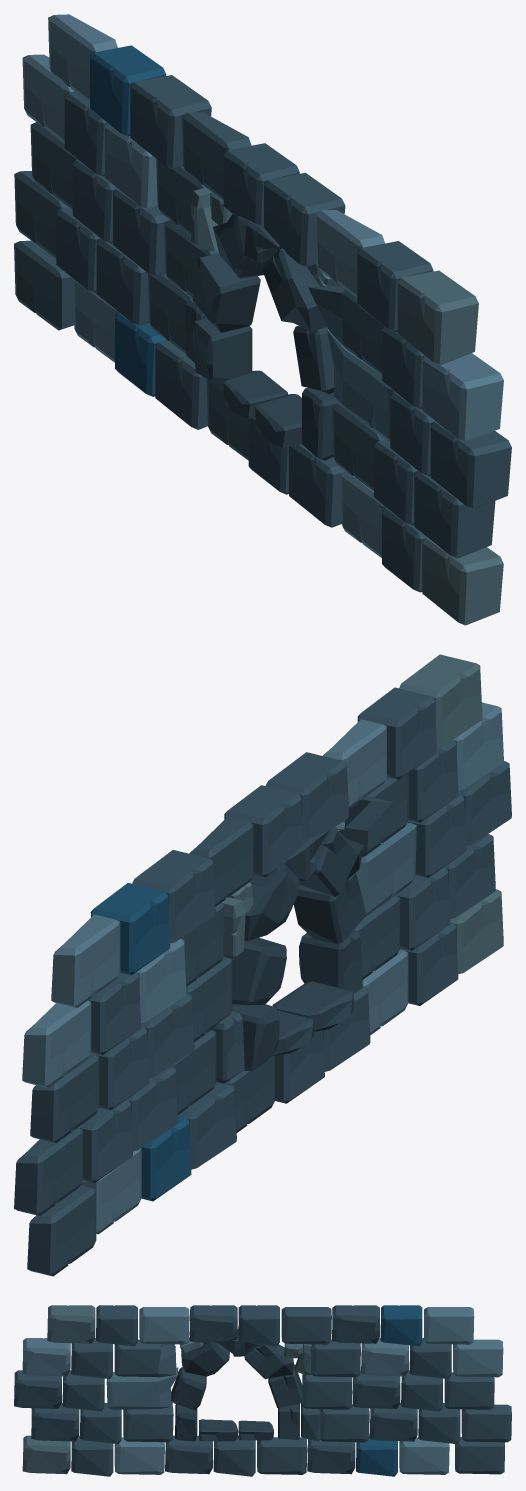
File: wall-with-windows.fbx
3 views of the same model, one above another, from view 1: azimuth 30°, elevation 25°; view 2: azimuth 150°, elevation 25°; view 3: azimuth 270°, elevation 25° (orthographic). The views are drawn at different scales.
Visible parts, largest first — view 1: stone-brick04.003; view 2: stone-brick04.003; view 3: stone-brick04.003.
Boxes of the visible parts, x1,y1,x2,y2 form: stone-brick04.003: (14,14,511,625); stone-brick04.003: (14,654,511,1276); stone-brick04.003: (14,1305,511,1476).
Size of the model in its own units: 170 by 748 by 2069.
